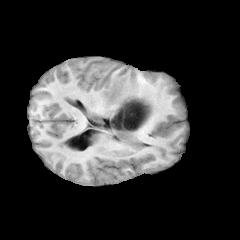glioma: (88, 72, 152, 141)
